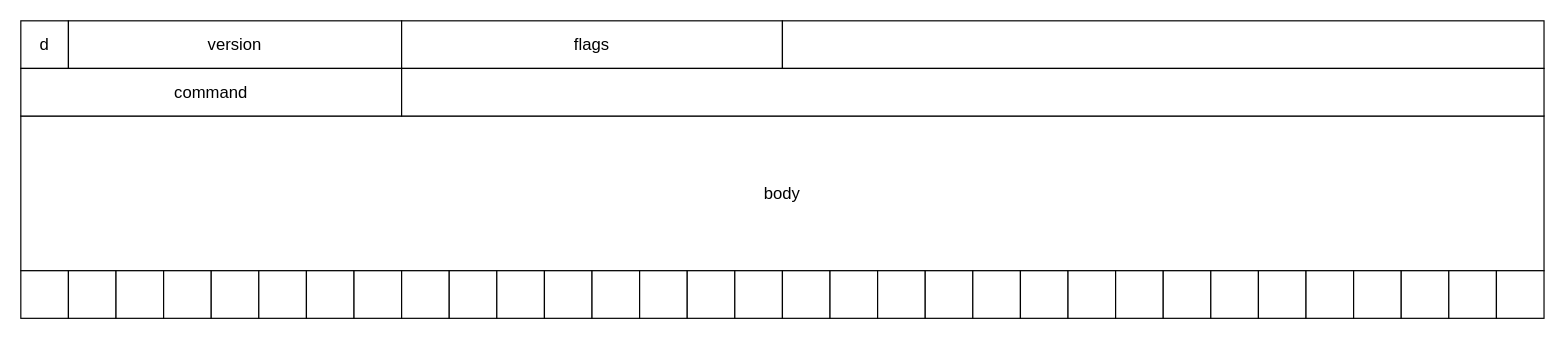
Some shapes in this 1565 by 339 pixel diagram are drawn without their labels. The shapes that lost their labels are listed below. From the top down, each one's centre as x and y in pixels, then its label:
At [1162,44]: "stream".
At [972,91]: "length".
